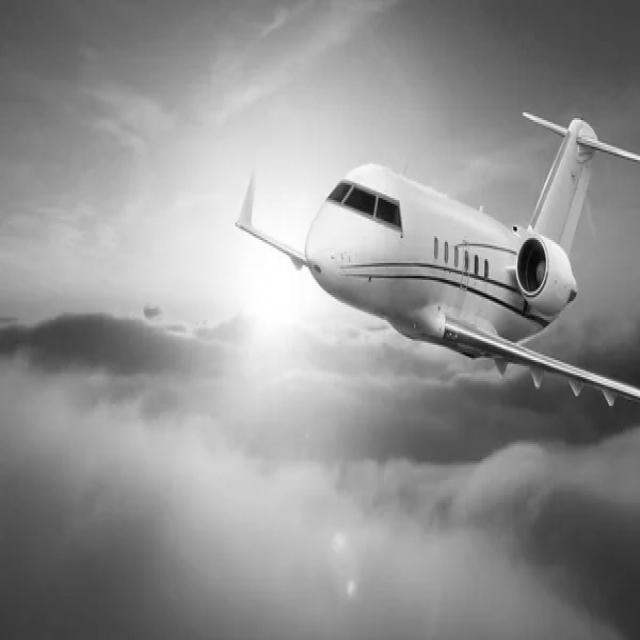Aircraft: (236, 88, 640, 430)
